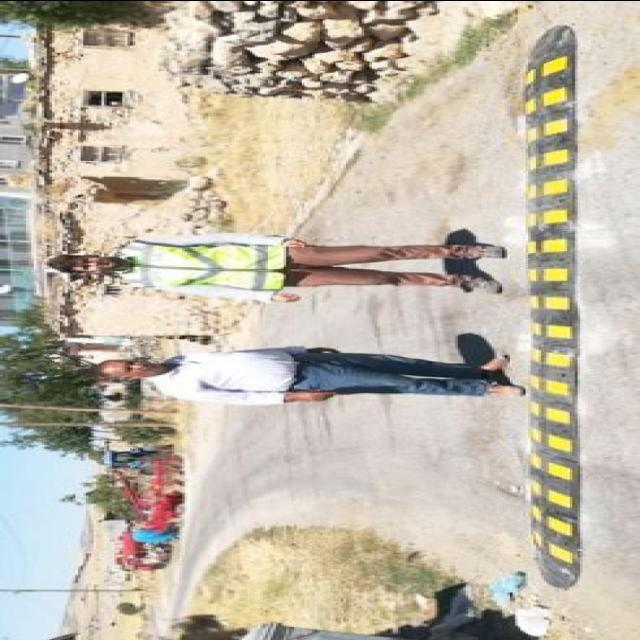Speed_Breaker: (516, 19, 592, 589), (525, 27, 581, 590)
